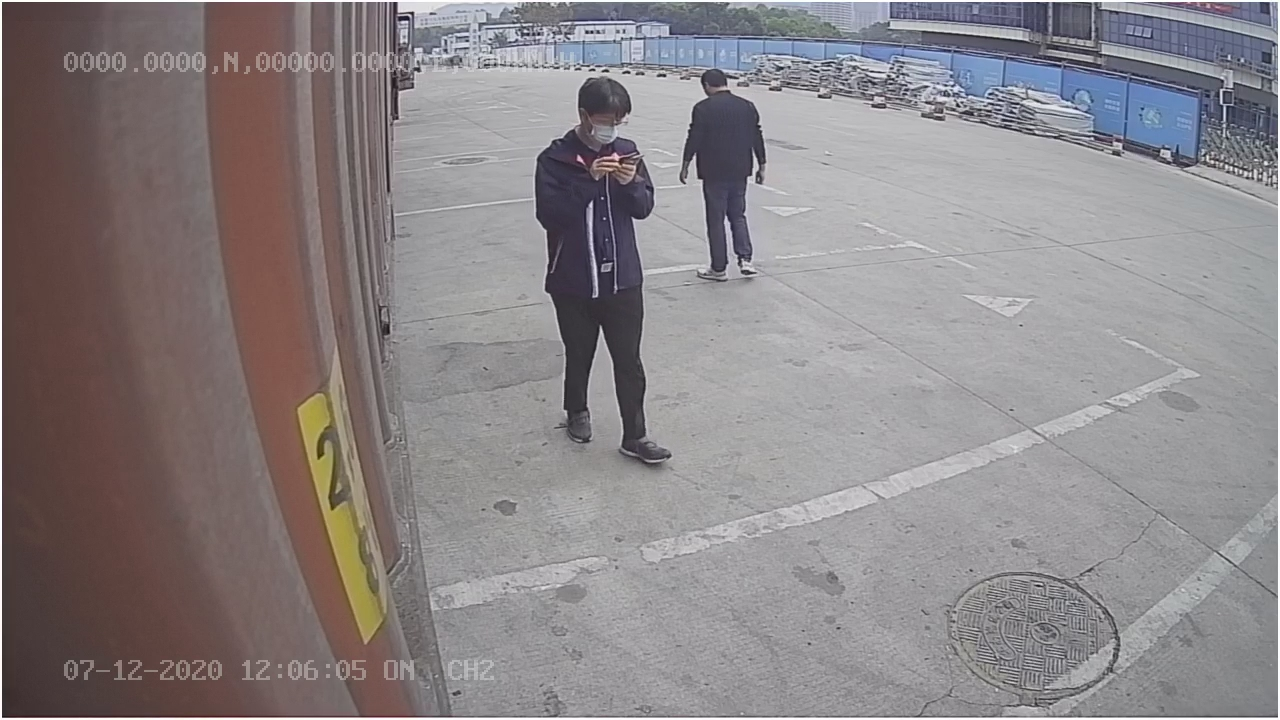person: (520, 73, 675, 464)
